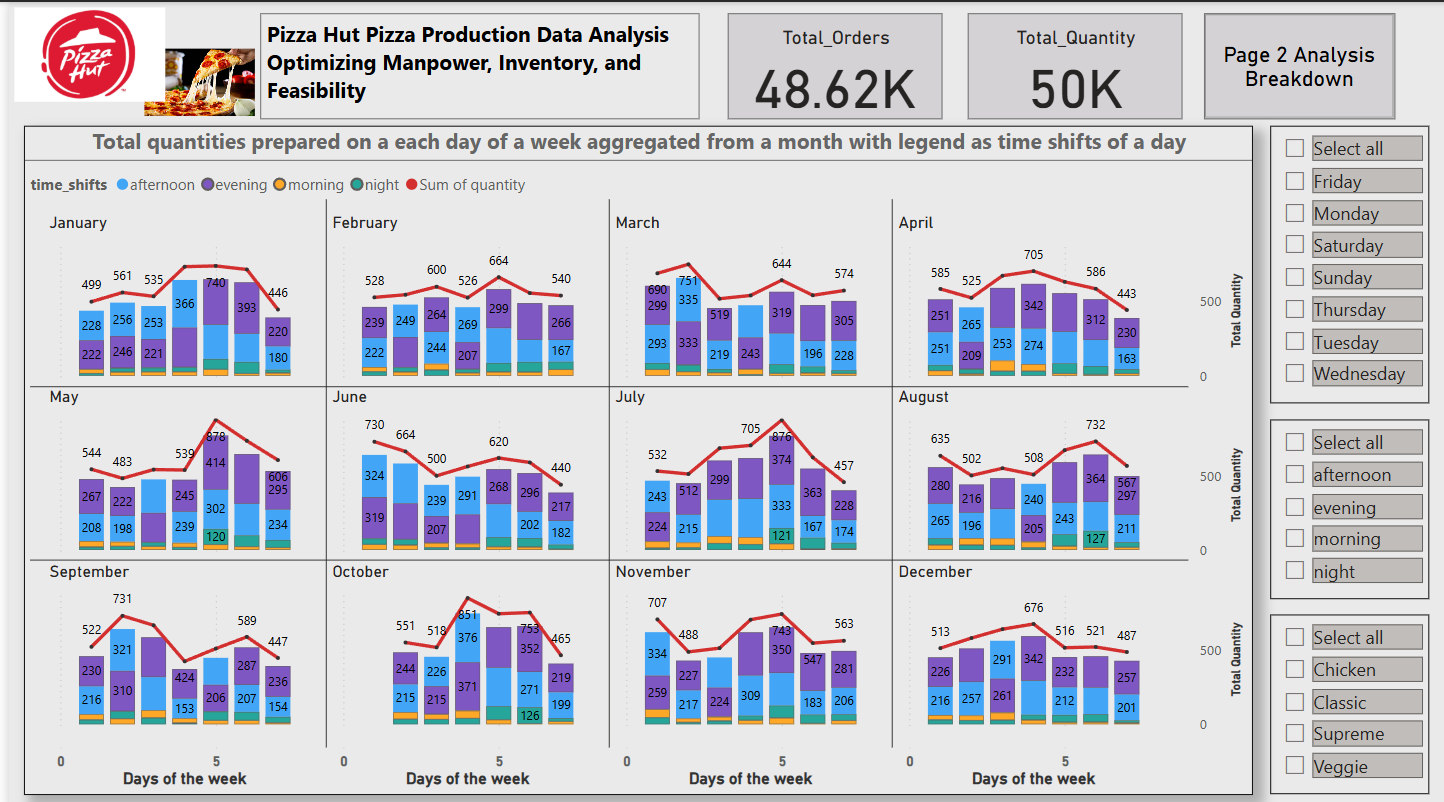

Layout of this report page (visuals, bound fields, positions):
{"tool":"powerbi","page":{"name":"overall_Trend","canvas":[1280,720],"ordinal":0},"visuals":[{"type":"lineStackedColumnComboChart","title":"Total quantities prepared on a each day of a week aggregated from a month with legend as time shifts of a day","fields":{"Series":["pizzahut orders.time_shifts"],"Y":["Sum(pizzahut order_details.quantity)"],"Y2":["Sum(pizzahut order_details.quantity)"],"Category":["pizzahut orders.DayOrder","pizzahut orders.Day Name"],"Rows":["pizzahut orders.order_date.Variation.Date Hierarchy.Month"]},"box":[12.9,110,1094.3,595.7],"z":0},{"type":"slicer","fields":{"Values":["pizzahut orders.Day Name"]},"box":[1122.9,110,141.4,247.1],"z":1000},{"type":"slicer","fields":{"Values":["pizzahut orders.time_shifts"]},"box":[1122.9,371.4,141.4,160],"z":2000},{"type":"slicer","fields":{"Values":["pizzahut pizza_types.category"]},"box":[1122.9,545.7,141.4,160],"z":3000},{"type":"card","title":"Total_Orders","fields":{"Values":["CountNonNull(pizzahut order_details.order_id)"]},"box":[640,10,191.4,94.3],"z":4000},{"type":"card","title":"Total_Quantity","fields":{"Values":["Sum(pizzahut order_details.quantity)"]},"box":[854.3,10,191.4,94.3],"z":5000},{"type":"textbox","box":[224.3,10,391.4,94.3],"z":6000},{"type":"image","box":[115.7,37.1,108.6,70],"z":7000},{"type":"image","box":[0,0,144.3,94.3],"z":8000},{"type":"actionButton","box":[1064.3,10,170,94.3],"z":9000},{"type":"shape","box":[1064.3,10,170,94.3],"z":10000}]}

Visuals, with their boxes in screenshot pixels (x1, y1, x2, y2), scaled from the page's 1280x720 canvas onto the 1444x802 screenshot:
"Total quantities prepared on a each day of a week aggregated from a month with legend as time shifts of a day" lineStackedColumnComboChart: 15 123 1249 786
slicer - pizzahut orders.Day Name: 1267 123 1426 398
slicer - pizzahut orders.time_shifts: 1267 414 1426 592
slicer - pizzahut pizza_types.category: 1267 608 1426 786
"Total_Orders" card: 722 11 938 116
"Total_Quantity" card: 964 11 1180 116
textbox: 253 11 695 116
image: 131 41 253 119
image: 0 0 163 105
actionButton: 1201 11 1392 116
shape: 1201 11 1392 116
